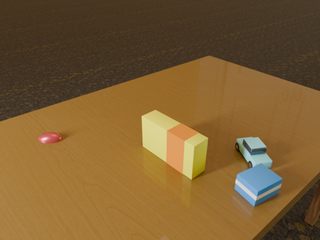box: (142, 110, 208, 179), (235, 163, 282, 206)
mouse: (38, 132, 62, 143)
toy_car: (236, 137, 272, 168)
